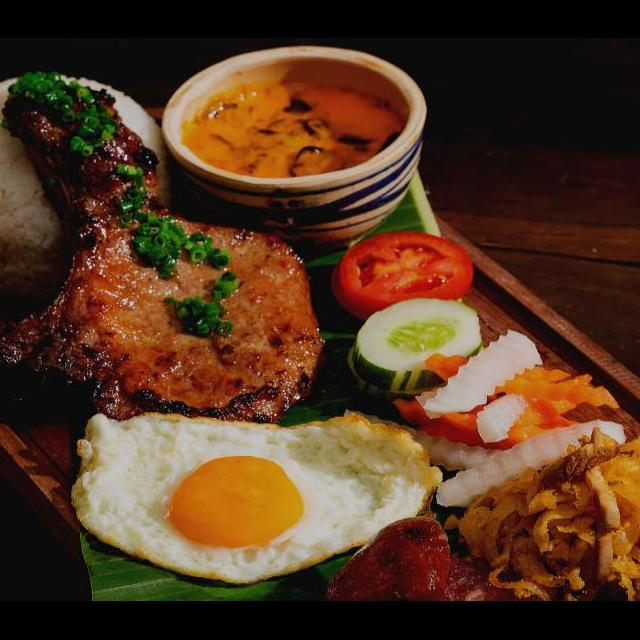bi: (446, 426, 640, 601)
com: (0, 70, 173, 293)
com suon bi trung: (0, 76, 640, 601)
dua chua: (378, 326, 630, 520)
suon: (0, 70, 325, 433)
trung: (68, 406, 445, 592)
